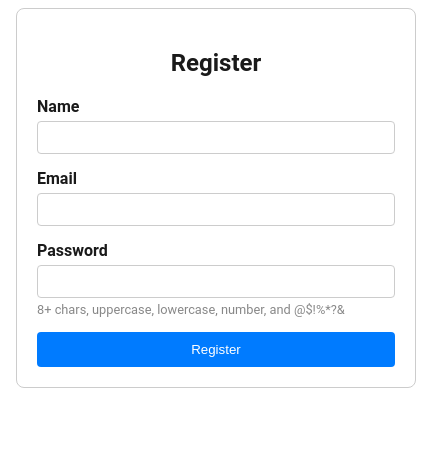
Register › shows fallback error when no message provided
Type "X" into the field labelled "Name" at (216, 137), box [37, 121, 395, 154]
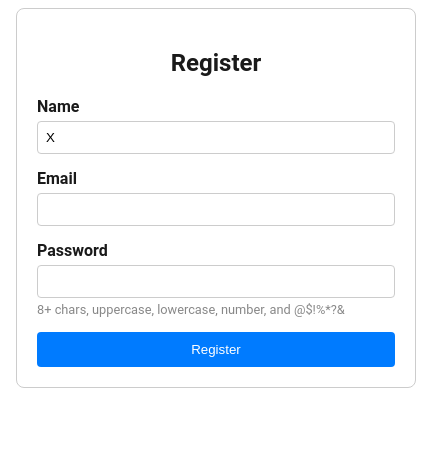
Type "x@x.com" into the field labelled "Email" at (216, 209), box [37, 193, 395, 226]
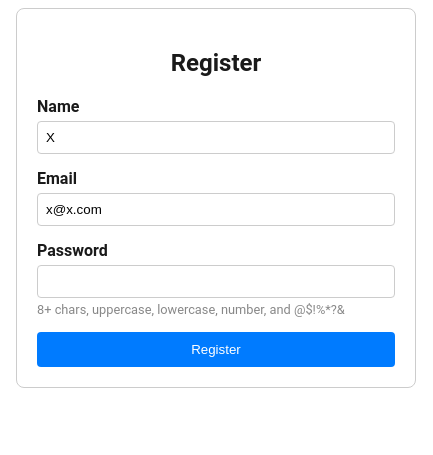
Type "LongPass@1" into the password field labelled "Password" at (216, 281), box [37, 265, 395, 298]
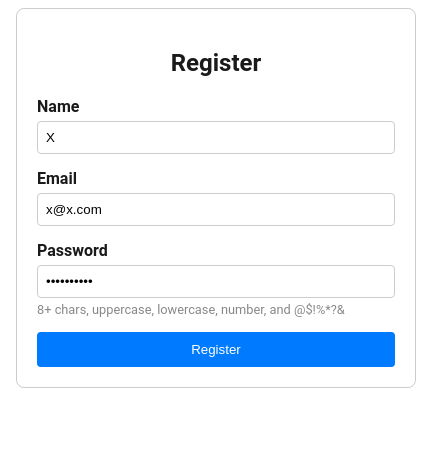
Click the button "Register" at (216, 349), box [37, 332, 395, 367]
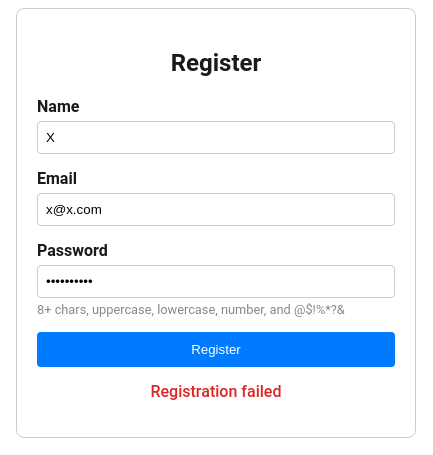
Check: the text "Registration failed" is shown, box [150, 382, 282, 401]
